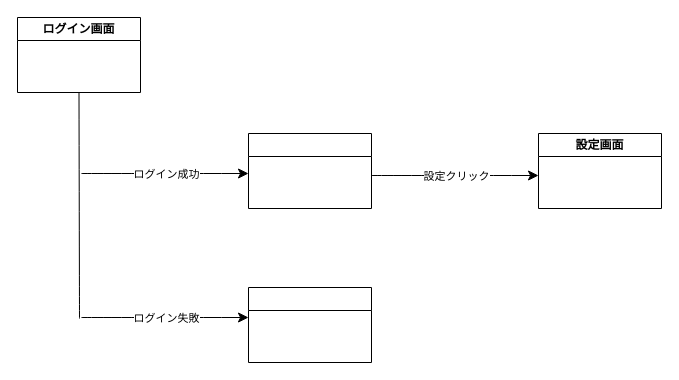
Image size: 679x380. Some labels were removed from this diagram. The shapes that lost their labels are listed below. From the top down, each one's centre as x and y in pixels, then its label:
At pixel 310 170: "チャット画面".
At pixel 310 324: "エラー画面".
